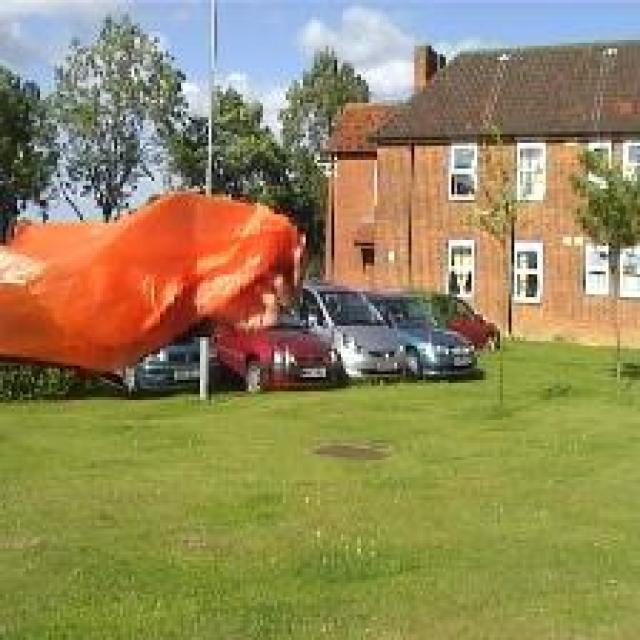other: (0, 189, 300, 377)
